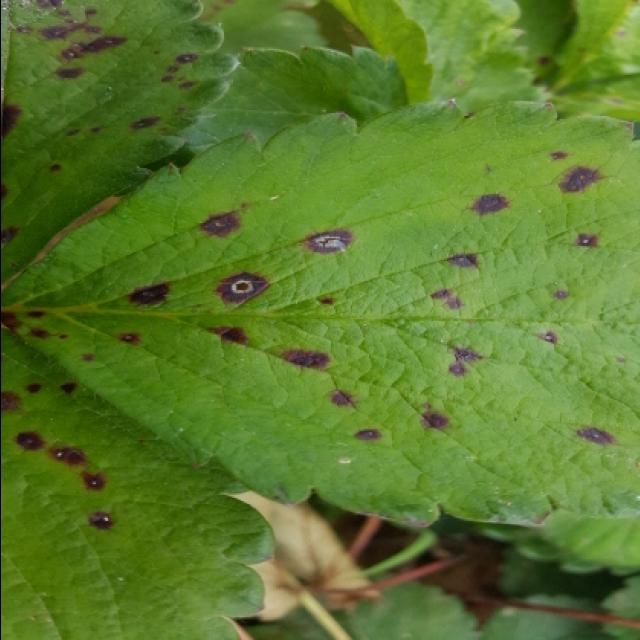Leaf Spot: (2, 95, 640, 534), (2, 316, 274, 640), (2, 2, 239, 289), (511, 2, 574, 93)
